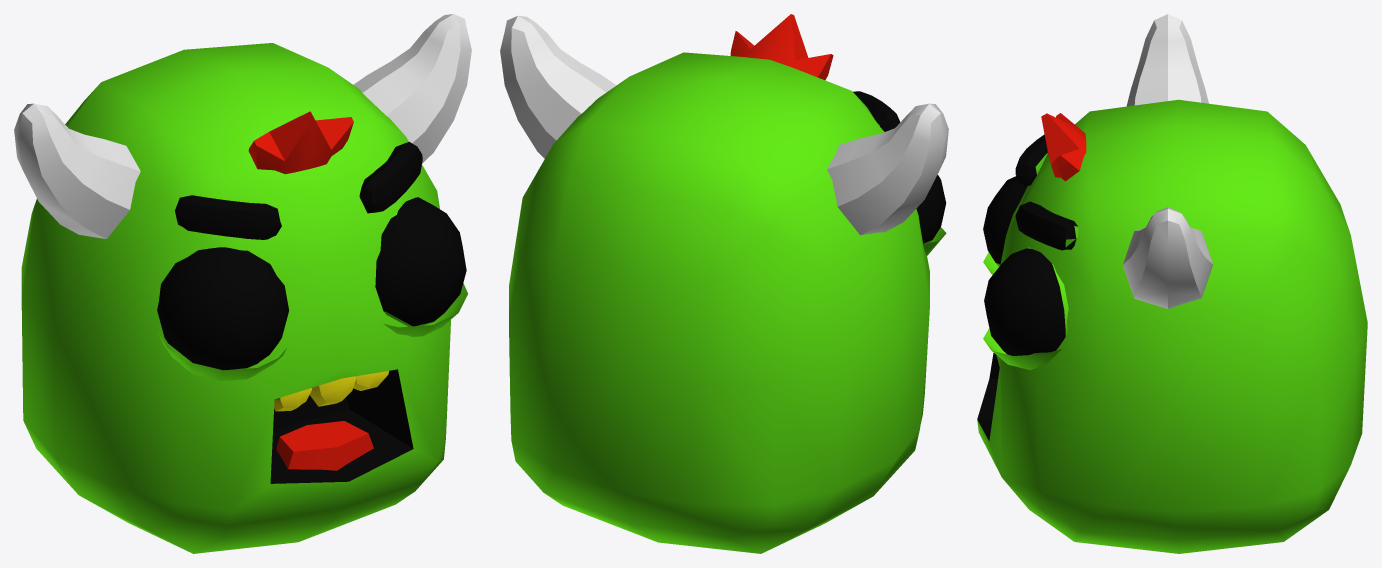
The model's file is GreenDemon.glb.
The picture shows the model from 3 angles, left to right: view 1: azimuth 30°, elevation 25°; view 2: azimuth 150°, elevation 25°; view 3: azimuth 270°, elevation 25°; orthographic projection. The views are drawn at different scales.
Visible parts, largest first — view 1: GreenDemon_Cube.000; view 2: GreenDemon_Cube.000; view 3: GreenDemon_Cube.000.
Boxes of the visible parts, box(x1,y1,x2,y2) form: GreenDemon_Cube.000: box(14, 14, 471, 553); GreenDemon_Cube.000: box(500, 14, 948, 553); GreenDemon_Cube.000: box(977, 14, 1367, 553).
Bounding box in the file's own units: 1.68 × 1.66 × 1.42.
